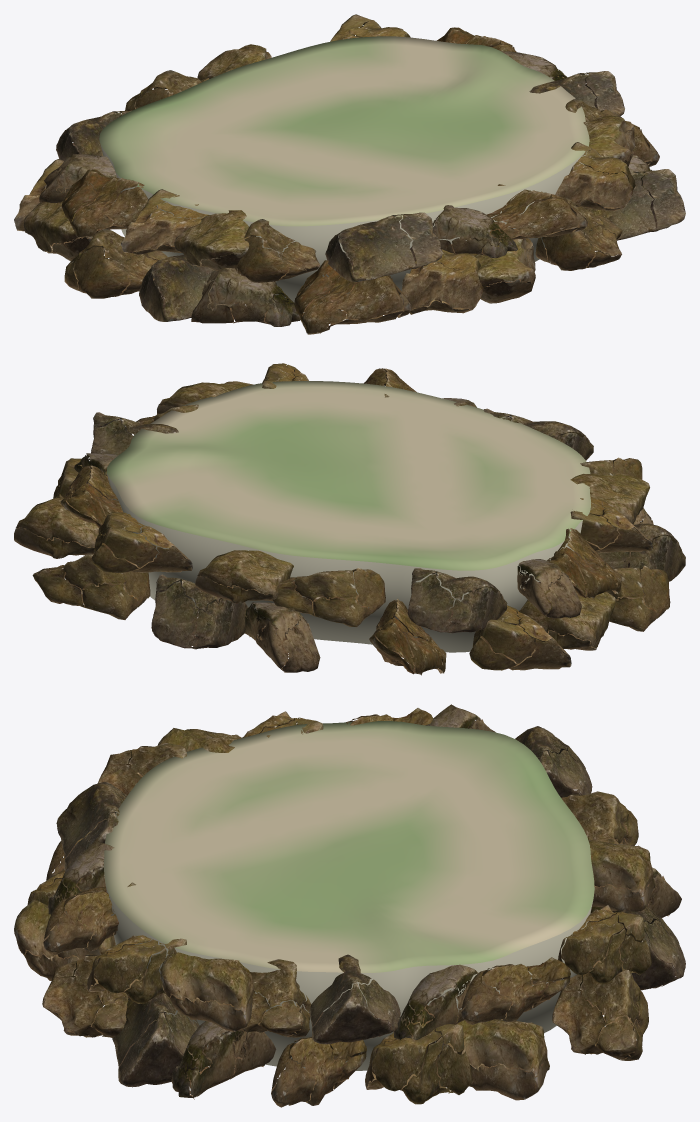
File: terraced_island_v6_0.glb
The picture shows the model from 3 angles, top to bottom: view 1: azimuth 30°, elevation 25°; view 2: azimuth 150°, elevation 25°; view 3: azimuth 270°, elevation 25°; orthographic projection. The views are drawn at different scales.
Parts seen in each view (by area): view 1: Merged_individual_rock_buttresses, Road_Clearance_Turf; view 2: Road_Clearance_Turf, Merged_individual_rock_buttresses; view 3: Road_Clearance_Turf, Merged_individual_rock_buttresses.
Boxes of the visible parts, box(x1,y1,x2,y2) form: Merged_individual_rock_buttresses: box(14, 14, 685, 334); Road_Clearance_Turf: box(99, 36, 589, 302); Road_Clearance_Turf: box(106, 381, 590, 652); Merged_individual_rock_buttresses: box(14, 363, 685, 675); Road_Clearance_Turf: box(104, 721, 594, 1070); Merged_individual_rock_buttresses: box(14, 704, 685, 1107).
Size of the model in its own units: 31.74 by 4.92 by 26.54.
2 materials, 1 textured.
